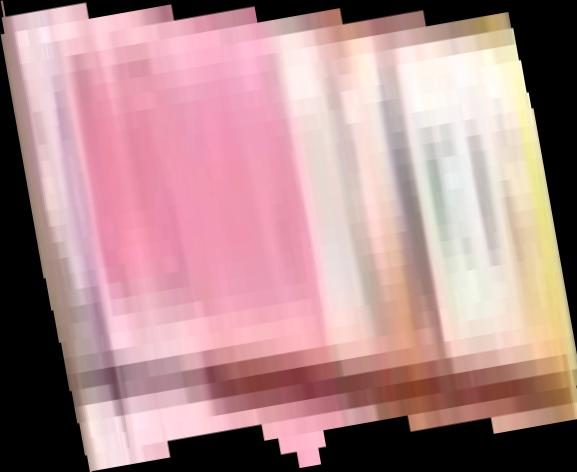flat: (1, 1, 577, 472)
